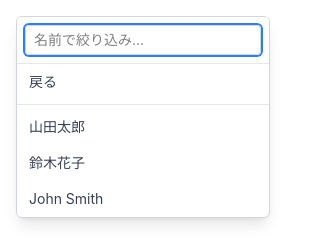
ContextMenu › 検索フィルター › フィルタリング結果が0件の場合「一致する人物がいません」を表示
Type "存在しない名前" into the field with placeholder "名前で絞り込み..." at (143, 40), box left=25, top=25, right=261, bottom=55
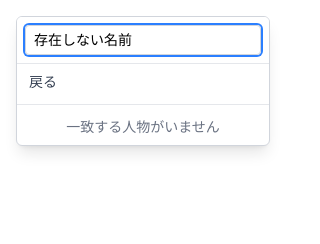
Expected: the text "戻る" is shown, left=29, top=72, right=57, bottom=92
Expected: the text "一致する人物がいません" is shown, left=66, top=118, right=220, bottom=135
